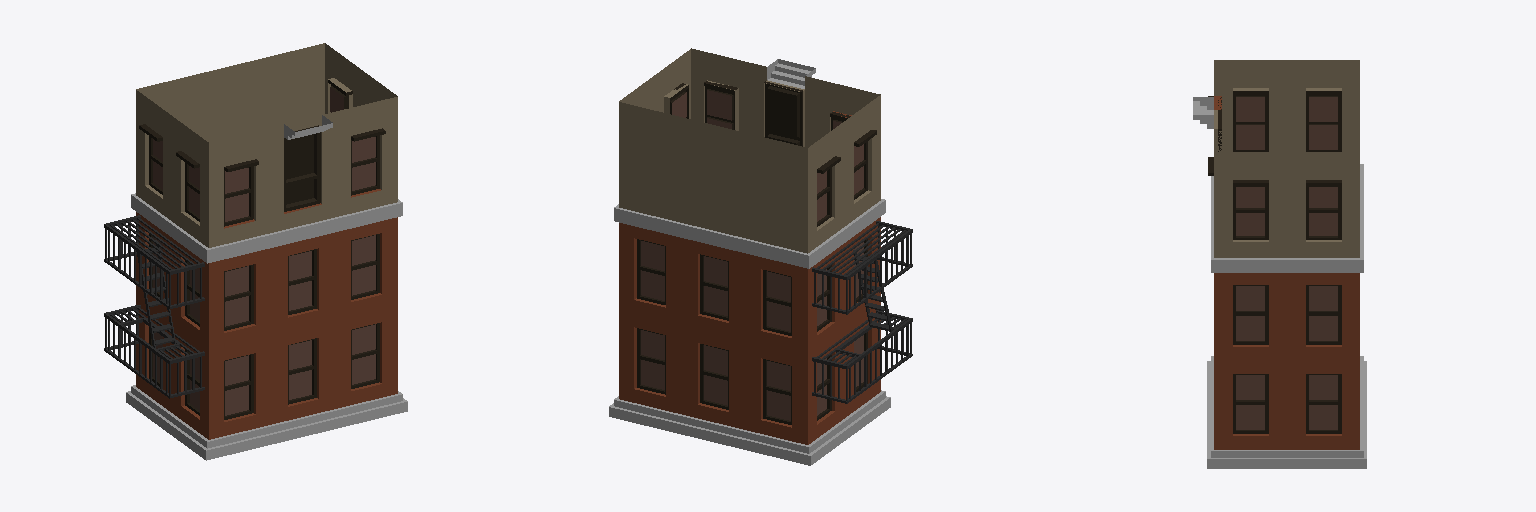
The picture shows the model from 3 angles: view 1: azimuth 30°, elevation 25°; view 2: azimuth 150°, elevation 25°; view 3: azimuth 270°, elevation 25°; orthographic projection.
Visible parts, largest first — view 1: Building_1; view 2: Building_1; view 3: Building_1.
Boxes of the visible parts, x1,y1,x2,y2 form: Building_1: [104, 43, 407, 460]; Building_1: [609, 48, 912, 465]; Building_1: [1193, 60, 1366, 468].
Size of the model in its own units: 36.62 by 47.5 by 24.
1 materials, 1 textured.